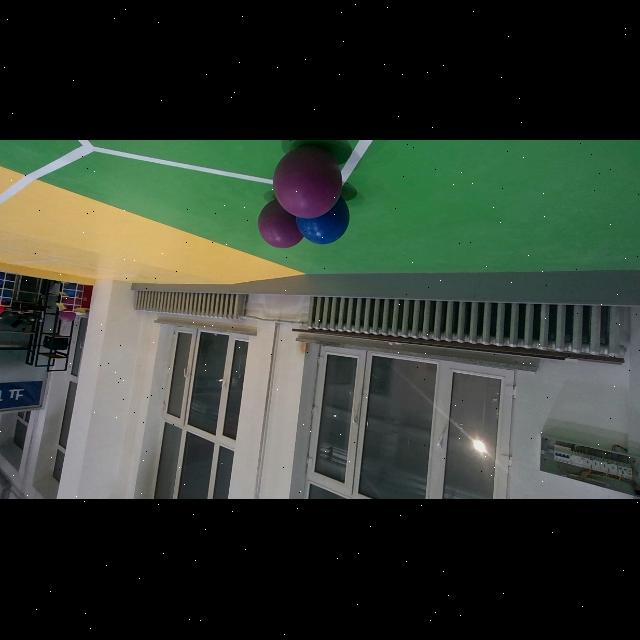B: (296, 196, 349, 244)
P: (274, 146, 342, 218), (254, 206, 304, 250)
